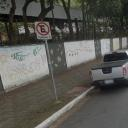NoEstacionar: (36, 20, 52, 40)
